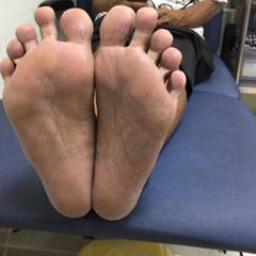Plantar View -Both Feet-: (3, 2, 192, 229)
